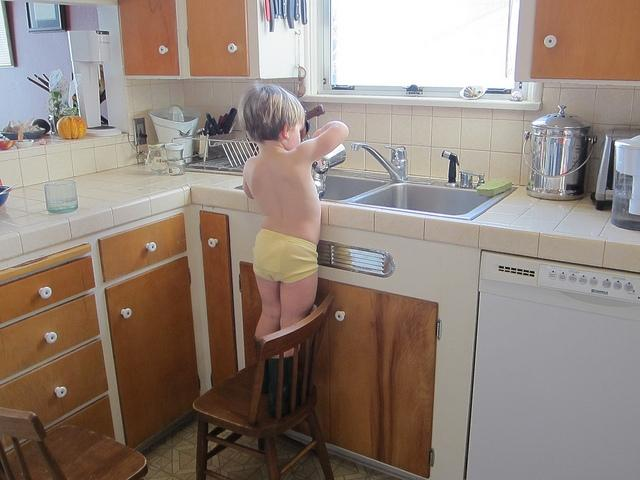pumpkin: (56, 115, 86, 139)
